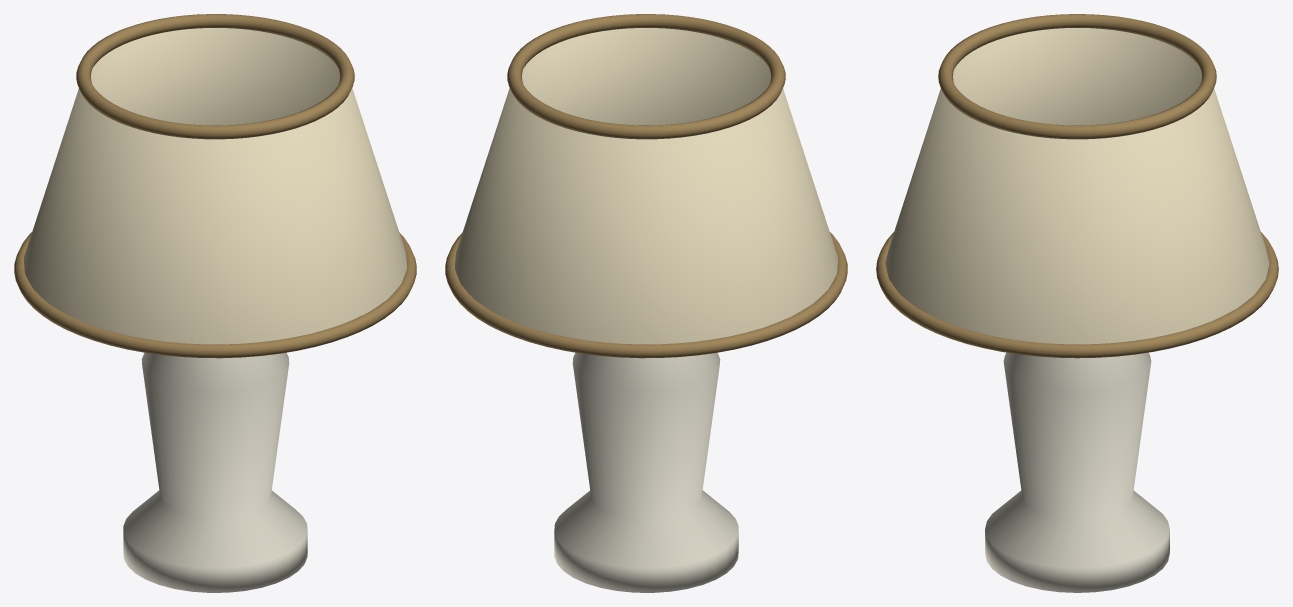
File: Table_Lamp.fbx
3 renders of one model, left to right at view 1: azimuth 30°, elevation 25°; view 2: azimuth 150°, elevation 25°; view 3: azimuth 270°, elevation 25°, orthographic.
Visible parts, largest first — view 1: Open lampshade.011, Ceramic lamp base.001, Shade trim.022, Shade trim.001; view 2: Open lampshade.011, Ceramic lamp base.001, Shade trim.022, Shade trim.001; view 3: Open lampshade.011, Ceramic lamp base.001, Shade trim.022, Shade trim.001.
Part boxes in pixels (box(x1,y1,x2,y2)): Open lampshade.011: box(23, 28, 407, 344); Ceramic lamp base.001: box(123, 352, 307, 592); Shade trim.022: box(76, 14, 354, 139); Shade trim.001: box(14, 232, 416, 358); Open lampshade.011: box(454, 28, 838, 344); Ceramic lamp base.001: box(554, 352, 738, 592); Shade trim.022: box(507, 14, 785, 139); Shade trim.001: box(445, 232, 847, 358); Open lampshade.011: box(885, 28, 1269, 344); Ceramic lamp base.001: box(985, 352, 1169, 592); Shade trim.022: box(938, 14, 1216, 139); Shade trim.001: box(876, 232, 1278, 358).
Bounding box in the file's own units: 0.436 × 0.578 × 0.436.
